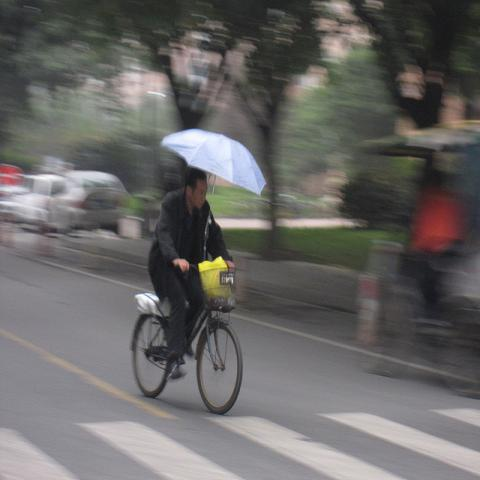car: (7, 175, 130, 227)
